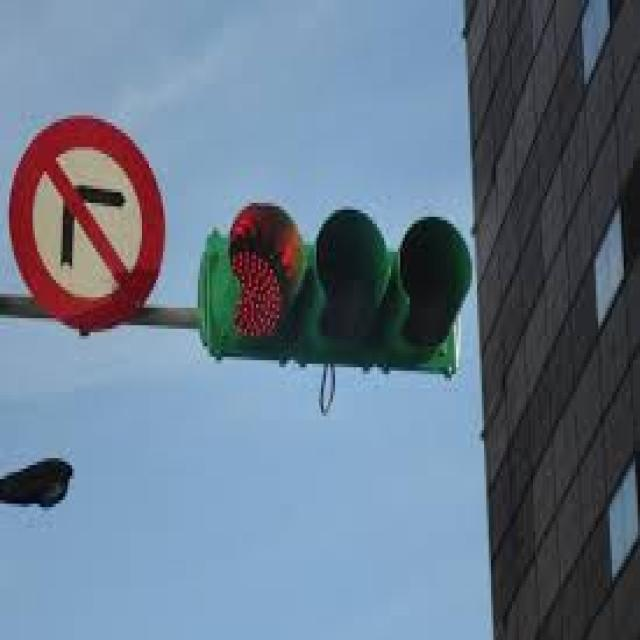red: (230, 221, 300, 338)
